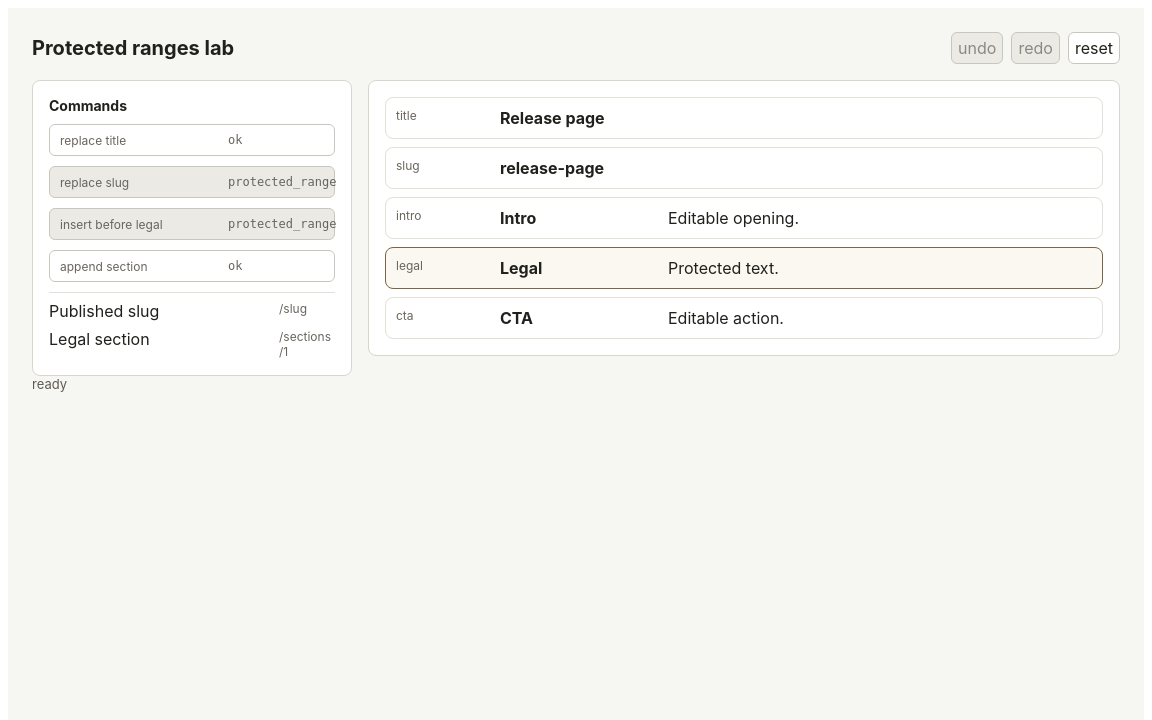
Scenario: protected ranges lab dogfood › allows unprotected commands and keeps protected values stable
Click the button "replace title ok".
click(93, 140)  # box [49,124,335,156]
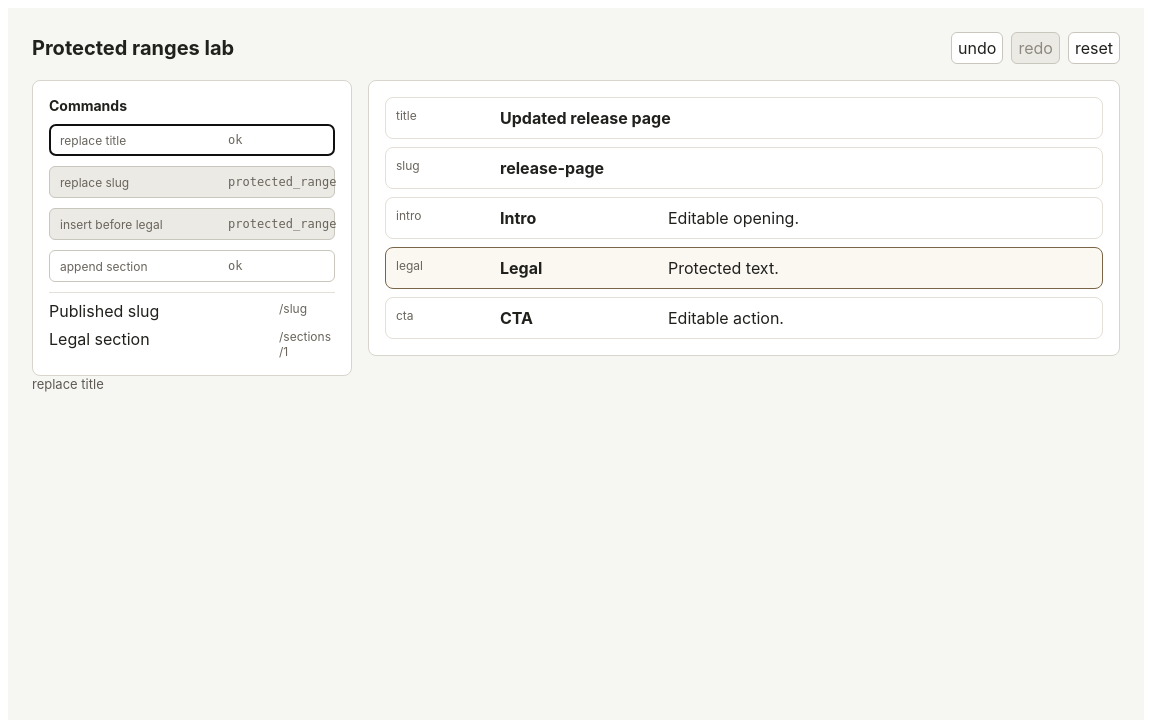
Click the button "append section ok".
click(104, 266)  # box [49,250,335,282]
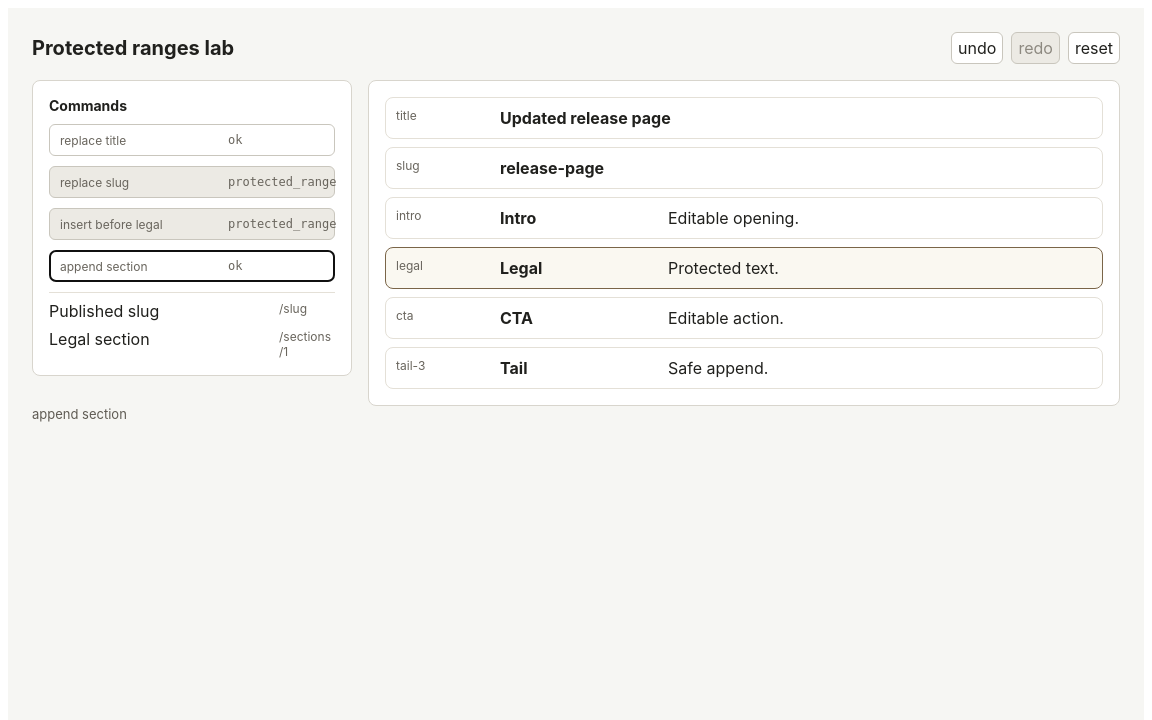
Expected: the text "Updated release page" is shown, [500,108,671,128]
Expected: the text "tail-3" is shown, [396,358,425,373]
Expected: the message reads "append section", [32,406,127,422]
